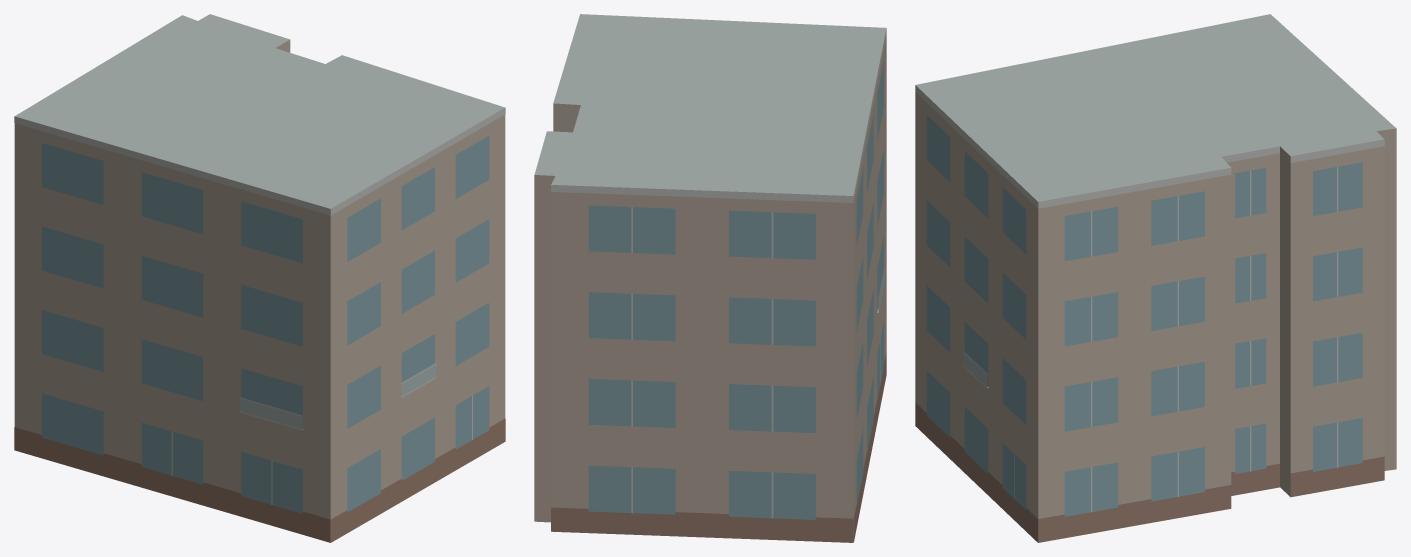
The model's file is survey-upis-32743147.glb.
The picture shows the model from 3 angles, left to right: view 1: azimuth 30°, elevation 25°; view 2: azimuth 150°, elevation 25°; view 3: azimuth 270°, elevation 25°; orthographic projection. The views are drawn at different scales.
Visible parts, largest first — view 1: survey-upis-32743147.tmp; view 2: survey-upis-32743147.tmp; view 3: survey-upis-32743147.tmp.
Part boxes in pixels (x1=…): survey-upis-32743147.tmp: x1=14, y1=14, x2=505, y2=542; survey-upis-32743147.tmp: x1=534, y1=14, x2=886, y2=542; survey-upis-32743147.tmp: x1=915, y1=14, x2=1396, y2=542.
Size of the model in its own units: 14.43 by 12.2 by 15.62.
